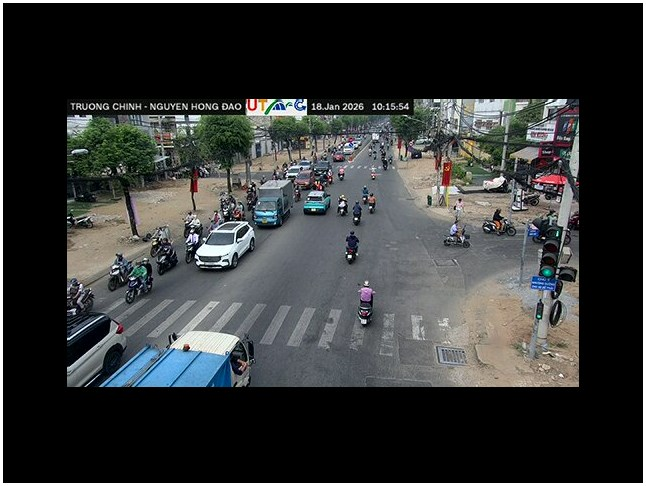car: (95, 329, 253, 387), (67, 310, 128, 386), (195, 220, 256, 271), (303, 190, 331, 215), (294, 173, 314, 190)
motorbike: (125, 260, 153, 304), (67, 278, 95, 317), (107, 253, 133, 291), (151, 238, 178, 274), (356, 280, 376, 326), (482, 218, 516, 237), (344, 231, 360, 264)
truck: (253, 179, 293, 227)
